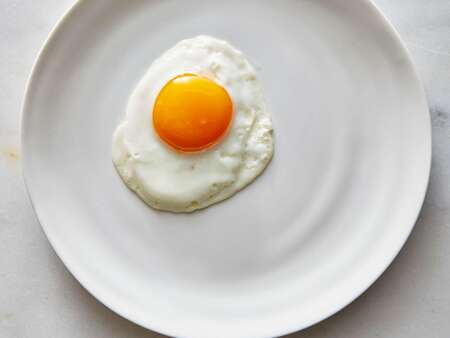Telur: (102, 33, 326, 257)
